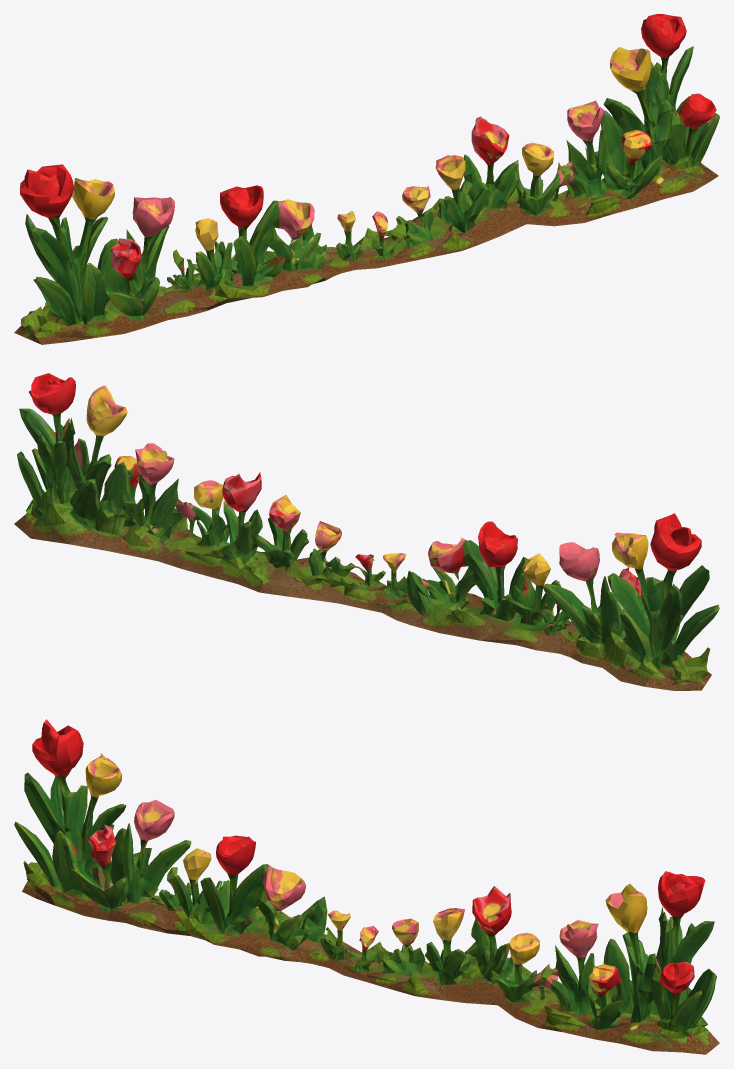
The picture shows the model from 3 angles, top to bottom: view 1: azimuth 30°, elevation 25°; view 2: azimuth 150°, elevation 25°; view 3: azimuth 330°, elevation 25°; orthographic projection.
Parts seen in each view (by area): view 1: Mesh0; view 2: Mesh0; view 3: Mesh0.
Boxes of the visible parts, x1=… form: Mesh0: x1=14, y1=14, x2=719, y2=344; Mesh0: x1=14, y1=373, x2=719, y2=690; Mesh0: x1=14, y1=719, x2=719, y2=1054.
Bounding box in the file's own units: 1.87 × 0.4172 × 0.2335.
Materials: 1 (1 with a texture image).
